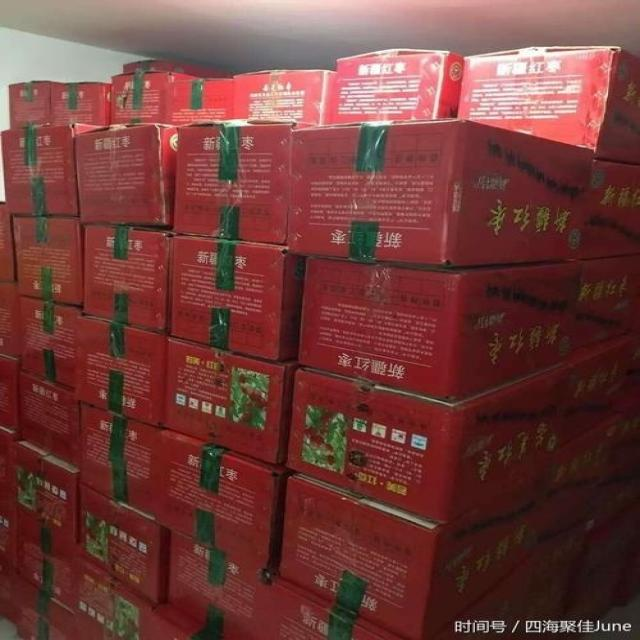box: (278, 446, 568, 640), (285, 363, 576, 523), (287, 119, 595, 268), (300, 259, 580, 400), (460, 45, 640, 163), (156, 432, 289, 569), (172, 236, 306, 363), (165, 338, 296, 464), (462, 506, 598, 618), (174, 120, 294, 245), (168, 532, 273, 639), (77, 486, 169, 603), (329, 48, 465, 124), (82, 226, 177, 333), (77, 125, 177, 225), (74, 318, 164, 427), (1, 125, 105, 215), (79, 405, 160, 518), (257, 578, 404, 639), (571, 402, 639, 527), (568, 327, 640, 442), (13, 439, 79, 545), (77, 553, 157, 637), (13, 218, 84, 305), (233, 69, 334, 129), (579, 161, 639, 260), (0, 562, 76, 640), (15, 513, 73, 613), (20, 373, 81, 467), (577, 256, 639, 348), (22, 297, 79, 390), (113, 72, 204, 124), (129, 605, 221, 639), (169, 80, 236, 125), (51, 83, 113, 125), (9, 80, 50, 130), (123, 60, 232, 77), (0, 284, 20, 356), (65, 616, 124, 640), (0, 202, 17, 285), (0, 356, 18, 432), (0, 428, 17, 506), (0, 506, 15, 565)
